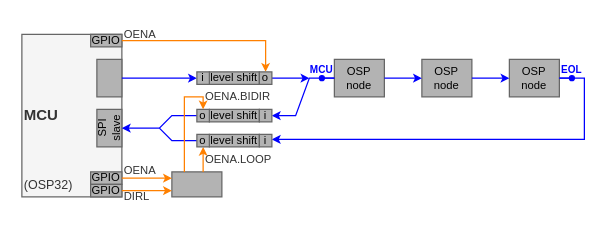
The diagram is 614 pixels wide and 230 high, and some of its shapes have lost their labels. Each missing label, with the box of its shape:
selector: (171, 171, 222, 197)
SPI master: (96, 58, 122, 97)
